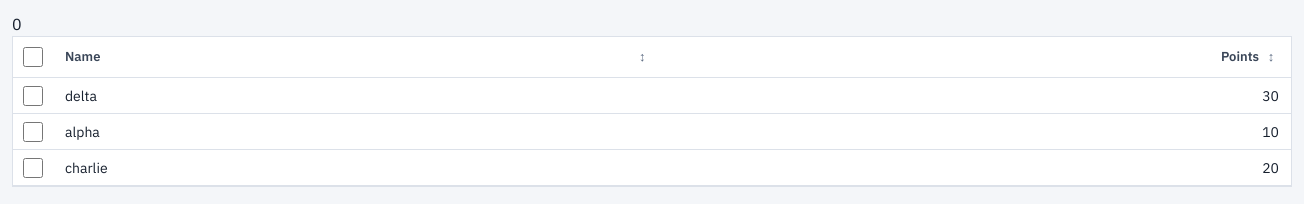
Scenario: DataTable selection › toggles a row via its checkbox (aria-label per row)
Click the checkbox named "Select row 1" at (33, 96), box left=23, top=86, right=43, bottom=106
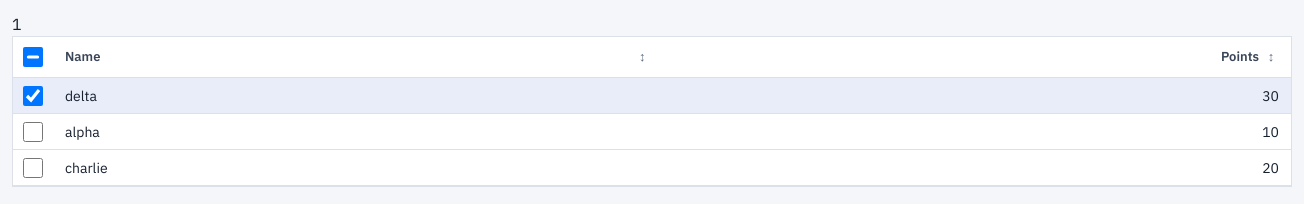
Expected: the text with test id "count" reads "1", left=12, top=14, right=22, bottom=34
Click the checkbox named "Select row 1" at (33, 96), box left=23, top=86, right=43, bottom=106
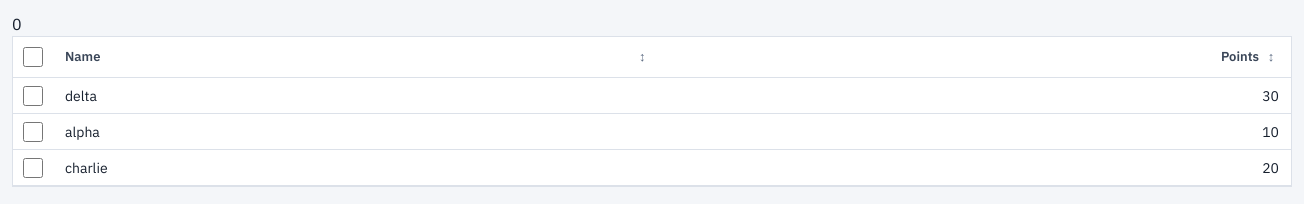
Expected: the text with test id "count" reads "0", left=12, top=14, right=22, bottom=34
